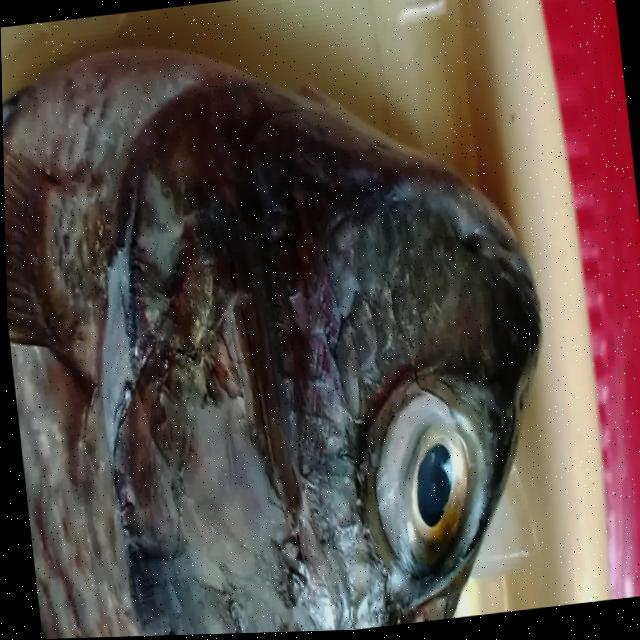Fresh: (334, 370, 510, 618)
